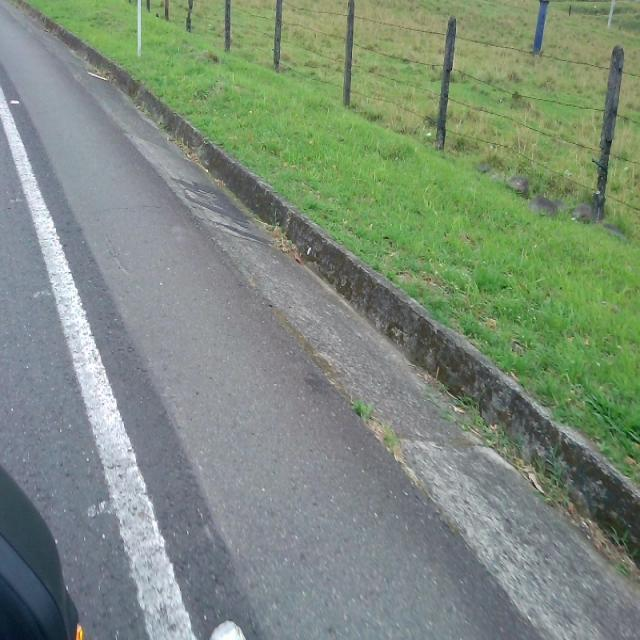DITCH: (1, 1, 638, 638), (1, 233, 636, 638)
